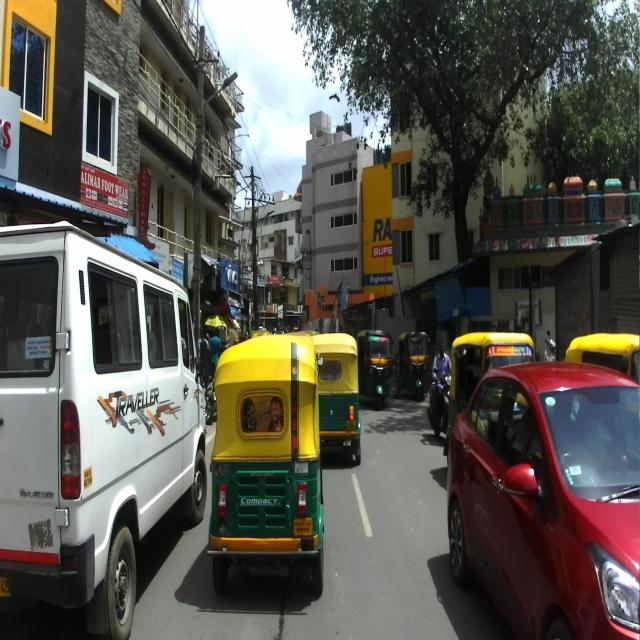autorickshaw: (207, 333, 324, 594), (442, 331, 540, 472), (311, 333, 360, 465)
car: (446, 361, 640, 639)
mini-bus: (0, 219, 213, 639)
